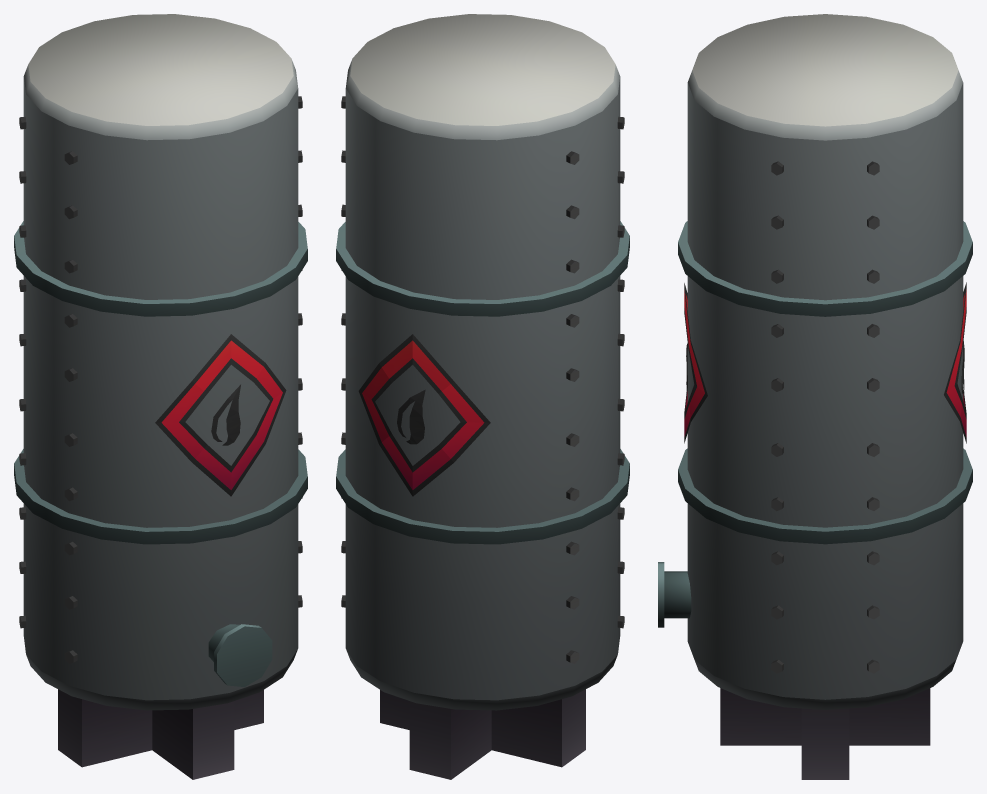
The model's file is Tank_3A.fbx.
3 views of the same model, side by side, from view 1: azimuth 30°, elevation 25°; view 2: azimuth 150°, elevation 25°; view 3: azimuth 270°, elevation 25° (orthographic).
Visible parts, largest first — view 1: Tank_3A; view 2: Tank_3A; view 3: Tank_3A.
Boxes of the visible parts, box(x1,y1,x2,y2) form: Tank_3A: box(14, 14, 307, 779); Tank_3A: box(336, 14, 629, 779); Tank_3A: box(658, 14, 972, 779).
Size of the model in its own units: 2.47 by 6.14 by 2.63.
